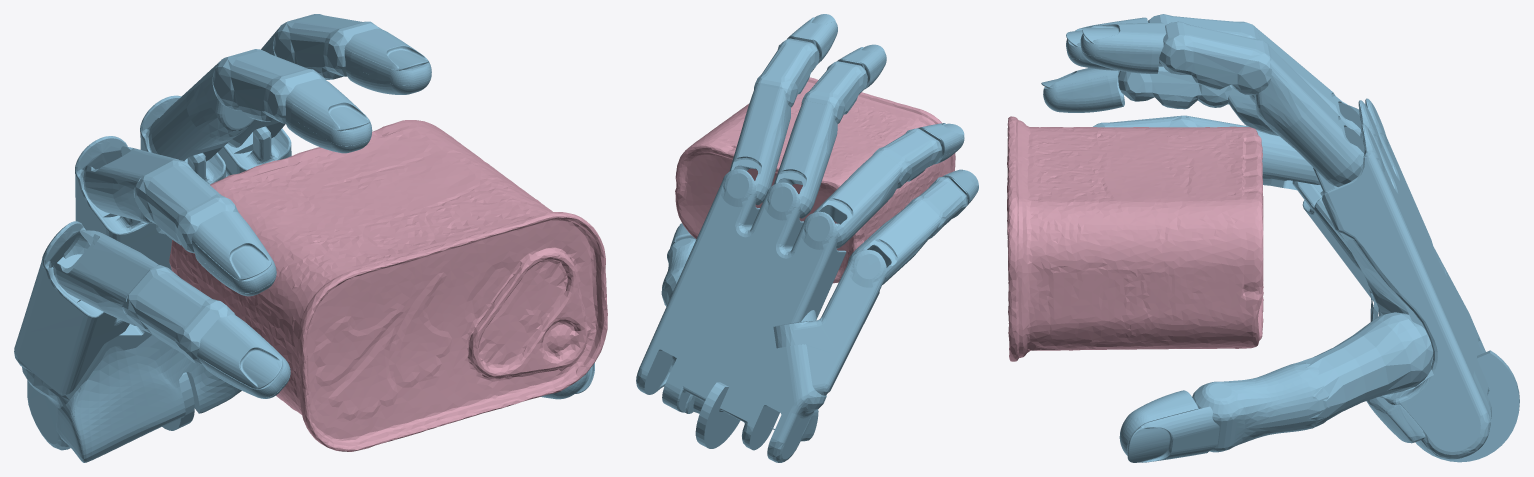
The picture shows the model from 3 angles, left to right: view 1: azimuth 30°, elevation 25°; view 2: azimuth 150°, elevation 25°; view 3: azimuth 270°, elevation 25°; orthographic projection. The views are drawn at different scales.
Parts seen in each view (by area): view 1: potted_meat_can.stl, world; view 2: world, potted_meat_can.stl; view 3: world, potted_meat_can.stl.
Part boxes in pixels (x1=…): potted_meat_can.stl: x1=169, y1=120, x2=607, y2=451; world: x1=14, y1=14, x2=594, y2=462; world: x1=636, y1=14, x2=978, y2=462; potted_meat_can.stl: x1=675, y1=77, x2=955, y2=283; world: x1=1041, y1=14, x2=1519, y2=462; potted_meat_can.stl: x1=1007, y1=116, x2=1263, y2=361.
Bounding box in the file's own units: 0.1459 × 0.1615 × 0.167.
